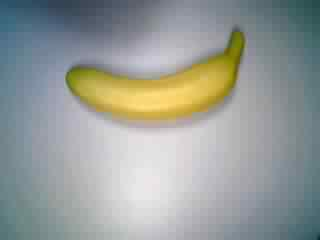banana: (63, 27, 246, 127)
